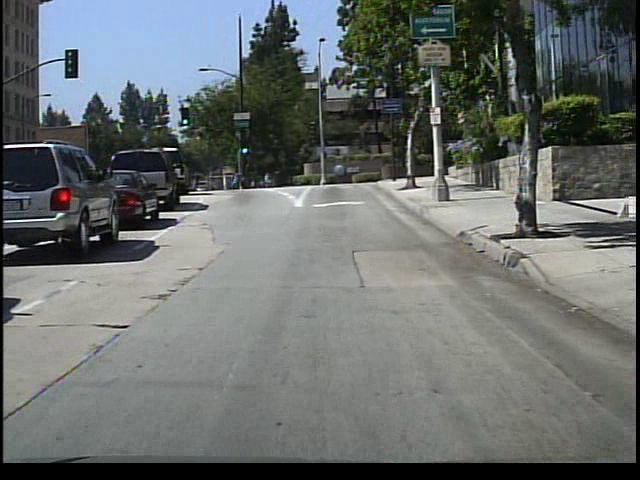person: (229, 167, 244, 192), (260, 166, 275, 191)
